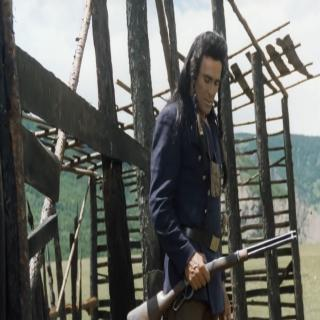gun: (120, 228, 296, 320)
